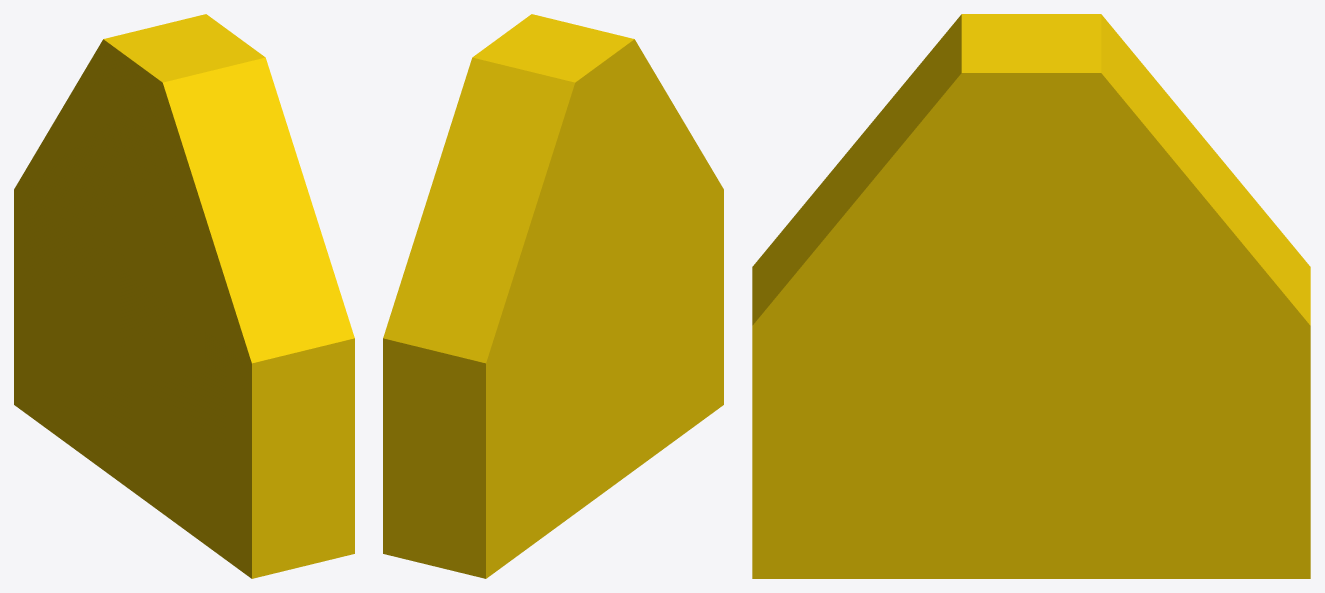
The model's file is Holder_2.obj.
3 renders of one model, left to right at view 1: azimuth 30°, elevation 25°; view 2: azimuth 150°, elevation 25°; view 3: azimuth 270°, elevation 25°, orthographic. The views are drawn at different scales.
Visible parts, largest first — view 1: Holder_2; view 2: Holder_2; view 3: Holder_2.
Part boxes in pixels (left/top/right/bottom): Holder_2: left=14, top=14, right=354, bottom=578; Holder_2: left=383, top=14, right=723, bottom=578; Holder_2: left=752, top=14, right=1310, bottom=578.
Bounding box in the file's own units: 1 × 4 × 4.
